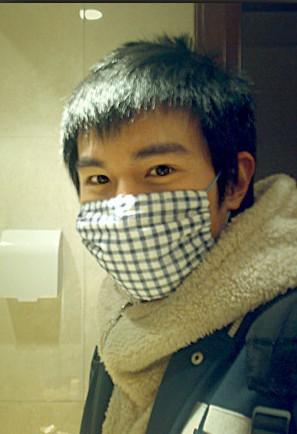OK: (72, 141, 227, 291)
